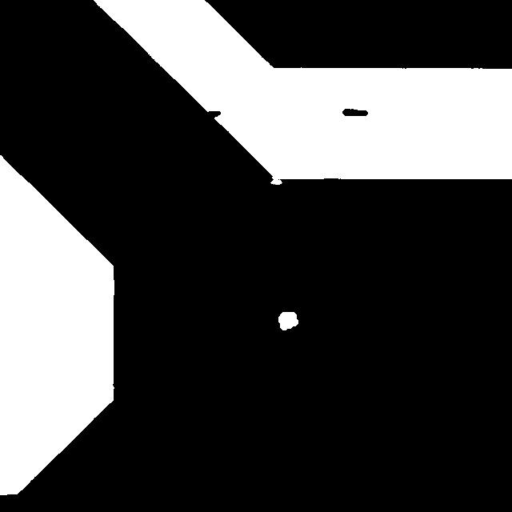copper: (334, 101, 375, 123)
mousebite: (262, 168, 290, 192)
pin-hole: (270, 304, 306, 338)
spur: (199, 103, 228, 126)
